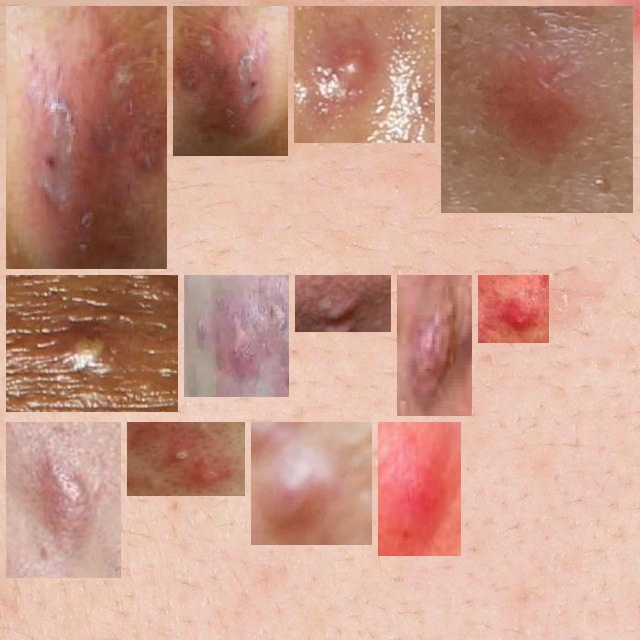nodule: (14, 14, 159, 261), (449, 14, 625, 205), (14, 283, 170, 404), (302, 14, 427, 135), (14, 430, 113, 570), (181, 14, 280, 148), (259, 430, 364, 537), (192, 283, 281, 389), (386, 430, 453, 548), (405, 283, 464, 408), (135, 430, 237, 488), (303, 283, 383, 324), (486, 283, 541, 335)
